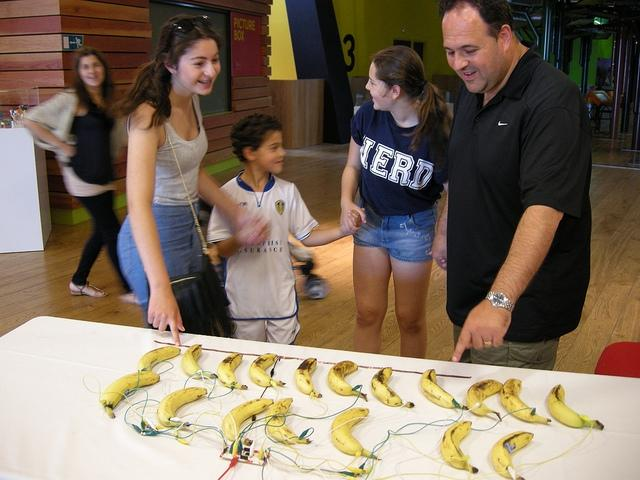banana: (101, 371, 160, 419), (546, 384, 604, 430), (330, 407, 380, 460), (500, 378, 552, 423), (222, 398, 274, 441), (266, 398, 314, 444), (439, 420, 479, 474), (420, 368, 470, 410), (492, 431, 534, 480), (157, 387, 207, 428), (372, 367, 416, 408), (328, 361, 368, 402), (466, 379, 503, 422), (182, 344, 218, 379), (250, 353, 286, 388), (217, 352, 248, 390), (136, 346, 181, 372), (294, 358, 322, 398)
